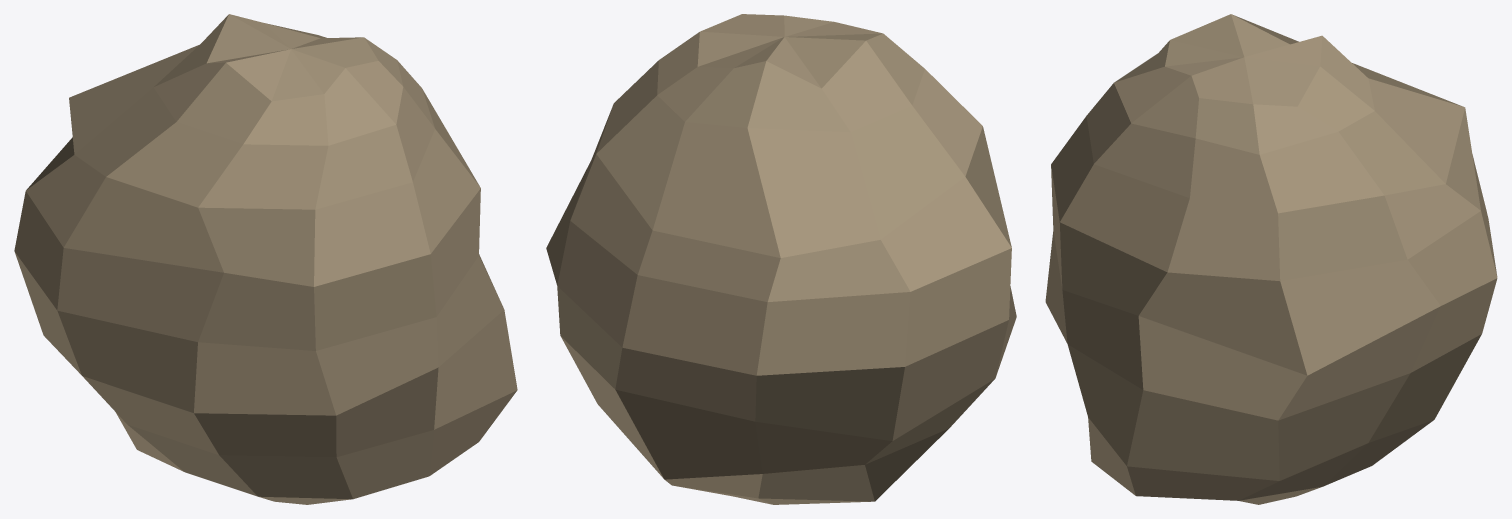
The model's file is rocks_round_sml.fbx.
The picture shows the model from 3 angles, left to right: view 1: azimuth 30°, elevation 25°; view 2: azimuth 150°, elevation 25°; view 3: azimuth 270°, elevation 25°; orthographic projection. The views are drawn at different scales.
Visible parts, largest first — view 1: rocks_round_sml; view 2: rocks_round_sml; view 3: rocks_round_sml.
Part boxes in pixels (x1=…): rocks_round_sml: x1=14, y1=14, x2=517, y2=504; rocks_round_sml: x1=546, y1=14, x2=1016, y2=504; rocks_round_sml: x1=1045, y1=14, x2=1497, y2=504.
Size of the model in its own units: 14.83 by 14.59 by 14.01.
